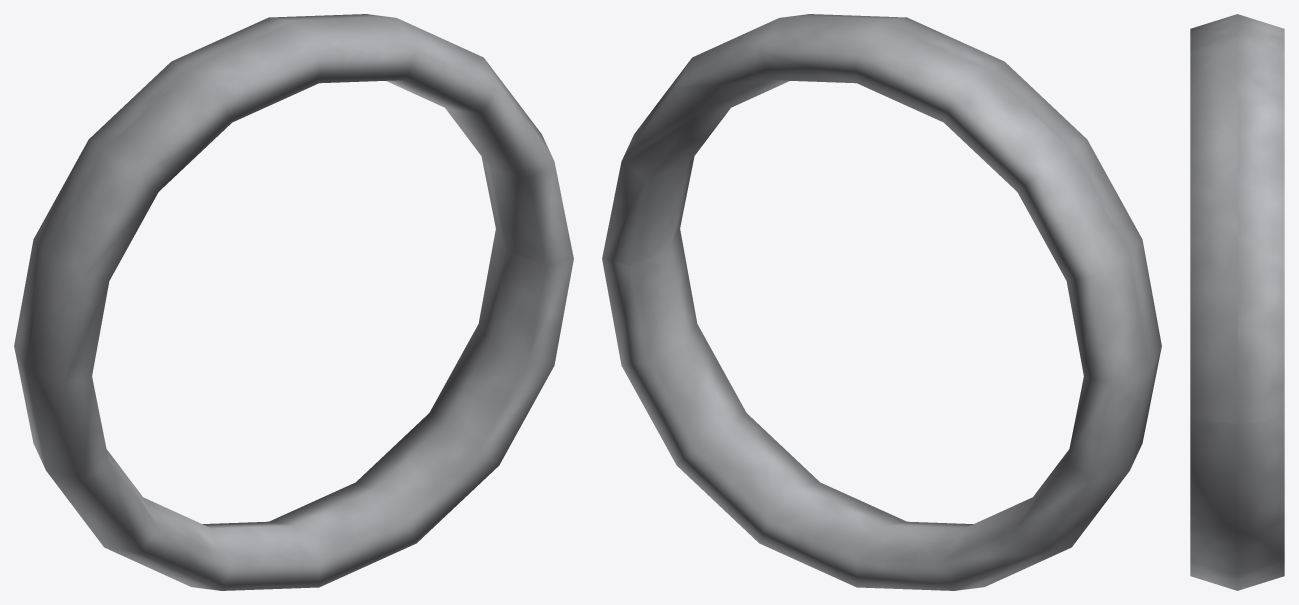
The model's file is it_ring_silver.glb.
The picture shows the model from 3 angles, left to right: view 1: azimuth 30°, elevation 25°; view 2: azimuth 150°, elevation 25°; view 3: azimuth 270°, elevation 25°; orthographic projection. The views are drawn at different scales.
Visible parts, largest first — view 1: it_ring_silver_lod0; view 2: it_ring_silver_lod0; view 3: it_ring_silver_lod0.
Boxes of the visible parts, left/top/right/bottom form: it_ring_silver_lod0: left=14, top=14, right=573, bottom=590; it_ring_silver_lod0: left=602, top=14, right=1161, bottom=590; it_ring_silver_lod0: left=1190, top=14, right=1284, bottom=590.
Size of what is drawn, in the model's own units: 0.0234 by 0.0234 by 0.00381.
1 material, 1 textured.
